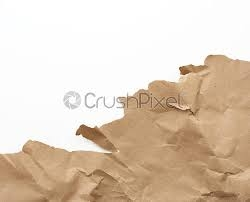paper: (1, 51, 250, 202)
